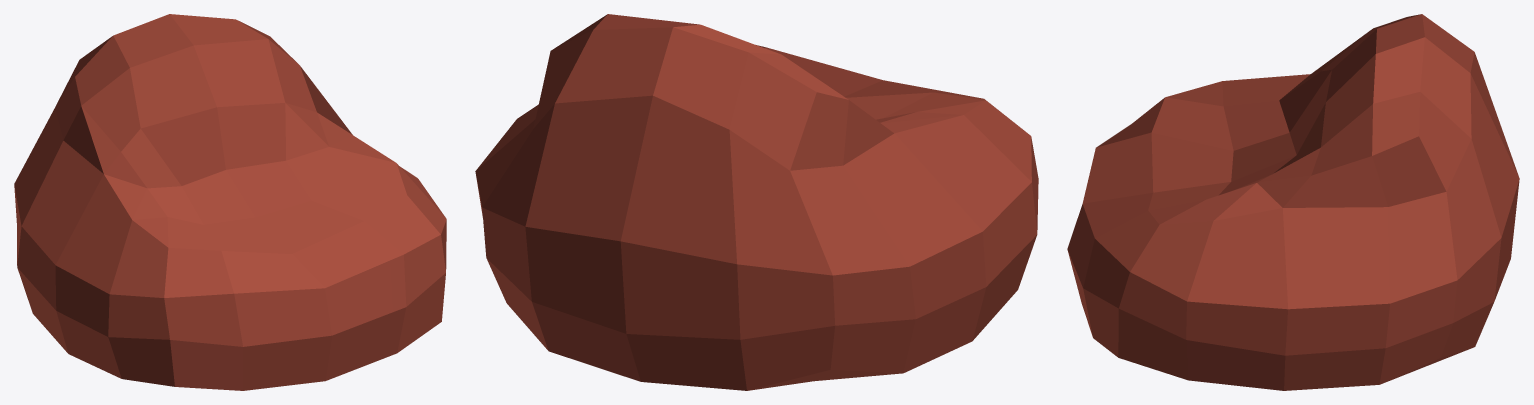
The model's file is SM_Prop_Chair_BeanBag_02.glb.
The picture shows the model from 3 angles, left to right: view 1: azimuth 30°, elevation 25°; view 2: azimuth 150°, elevation 25°; view 3: azimuth 270°, elevation 25°; orthographic projection. The views are drawn at different scales.
Visible parts, largest first — view 1: SM_Prop_Chair_BeanBag_02; view 2: SM_Prop_Chair_BeanBag_02; view 3: SM_Prop_Chair_BeanBag_02.
Part boxes in pixels (bbox=[...]): SM_Prop_Chair_BeanBag_02: bbox=[14, 14, 446, 390]; SM_Prop_Chair_BeanBag_02: bbox=[475, 14, 1038, 390]; SM_Prop_Chair_BeanBag_02: bbox=[1067, 14, 1519, 390].
Size of the model in its own units: 1.13 by 0.7777 by 1.14.
Materials: 1 (1 with a texture image).
